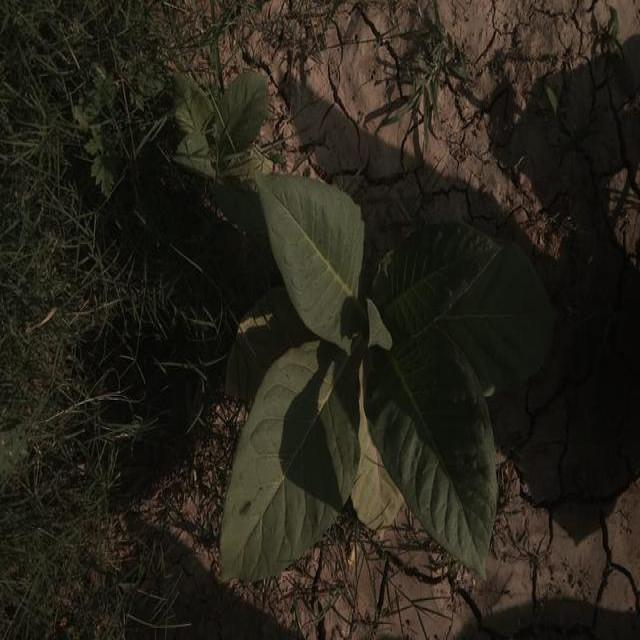crop: (220, 166, 495, 581), (168, 63, 268, 166)
